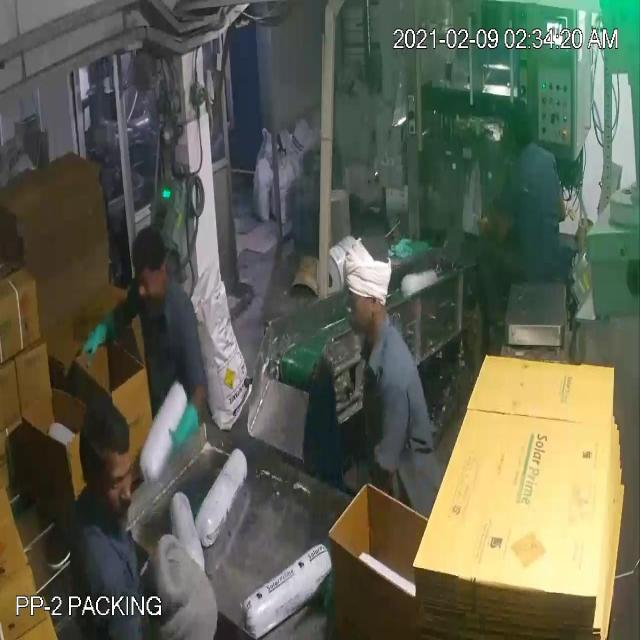gloves: (51, 294, 136, 378), (142, 397, 218, 467)
